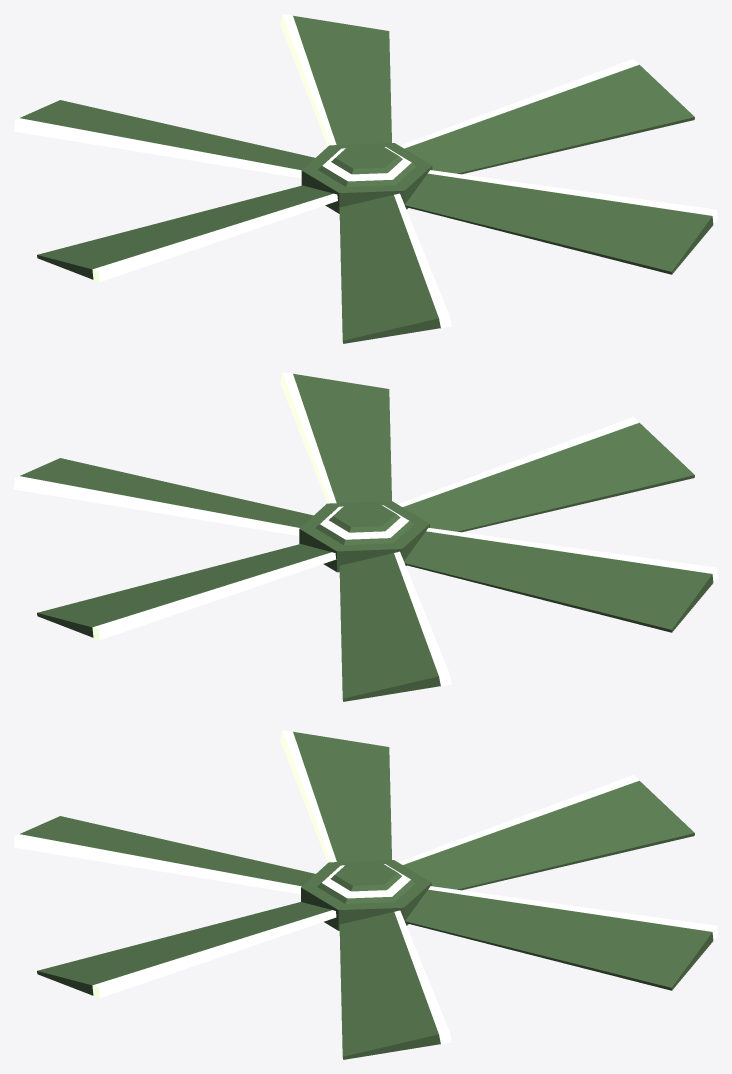
The model's file is Turbine.fbx.
3 renders of one model, top to bottom at view 1: azimuth 30°, elevation 25°; view 2: azimuth 150°, elevation 25°; view 3: azimuth 270°, elevation 25°, orthographic.
Parts seen in each view (by area): view 1: Cube.003, Cube, Cube.004, Cube.005, Cube.001, Cube.002, Cylinder; view 2: Cube.001, Cube.004, Cube.002, Cube.003, Cube.005, Cube, Cylinder; view 3: Cube.005, Cube.002, Cube, Cube.001, Cube.003, Cube.004, Cylinder.
Part boxes in pixels (x1,y1,x2,y2): Cube.003: (404,170,717,274); Cube: (400,59,694,174); Cube.004: (339,193,451,343); Cube.005: (280,14,391,146); Cube.001: (37,185,337,282); Cube.002: (14,100,314,178); Cylinder: (301,143,432,213); Cube.001: (404,527,717,632); Cube.004: (398,417,694,532); Cube.002: (339,551,451,701); Cube.003: (280,372,391,503); Cube.005: (37,544,336,640); Cube: (14,458,313,535); Cylinder: (299,501,429,572); Cube.005: (405,886,717,990); Cube.002: (398,775,694,890); Cube: (339,910,451,1059); Cube.001: (280,730,391,862); Cube.003: (37,902,336,998); Cube.004: (14,816,315,894); Cylinder: (301,860,431,930).
Bounding box in the file's own units: 1118 × 54.01 × 1073.
